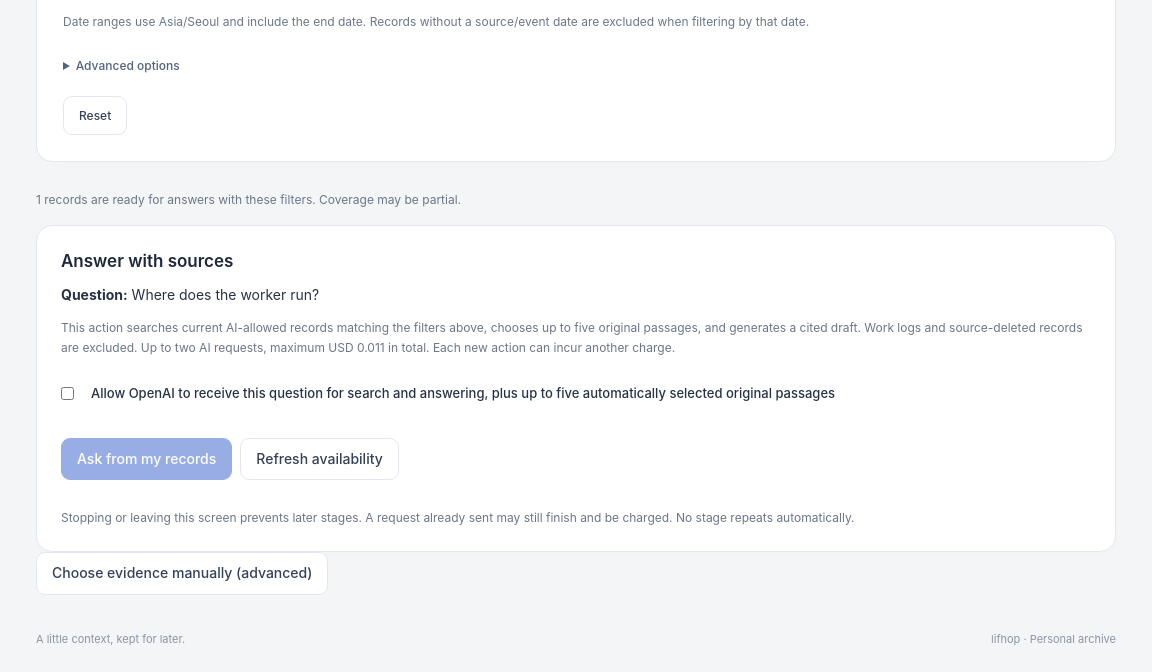
Test case: uses one consent/action for query, local recommendation and a bounded cited answer
(page scrolled)
Expected: the button "Ask from my records" is disabled, [61,438,232,480]
What coordinates should you click on to do the following:
click the checkbox named "Allow OpenAI to receive this question for search and answering, plus up to five automatically selected original passages"
I would click on:
 (68, 393)
Its box is [61,385,74,402].
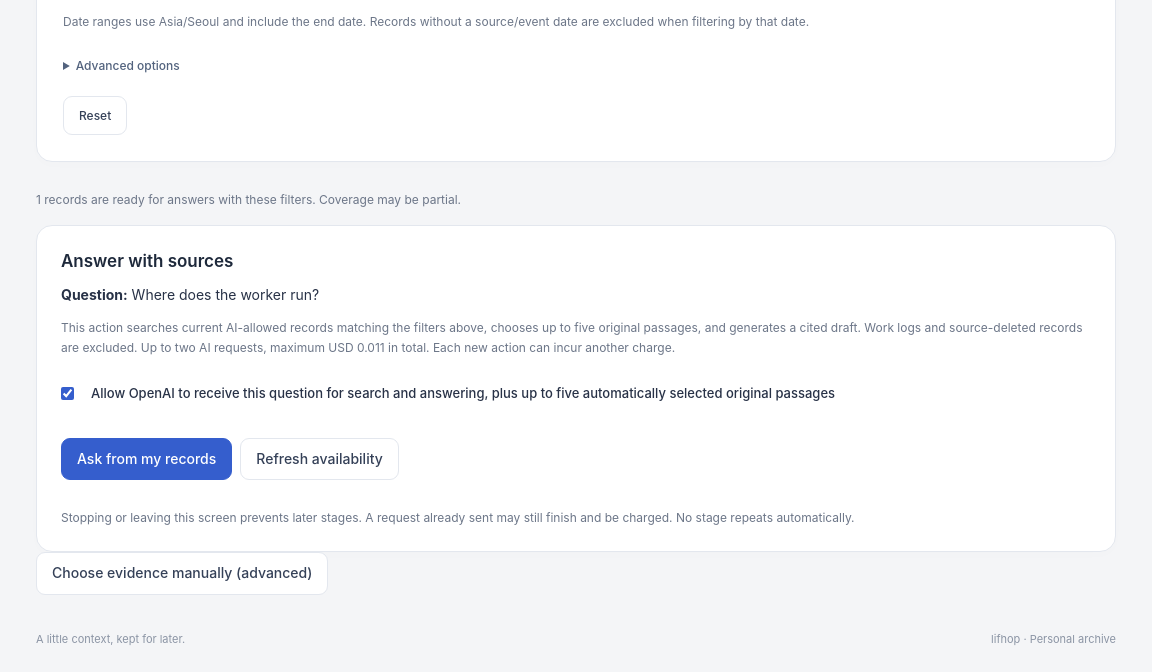
What coordinates should you click on to do the following:
click the button "Ask from my records"
I would click on:
 (147, 459)
Its box is [61,438,232,480].
(page scrolled)
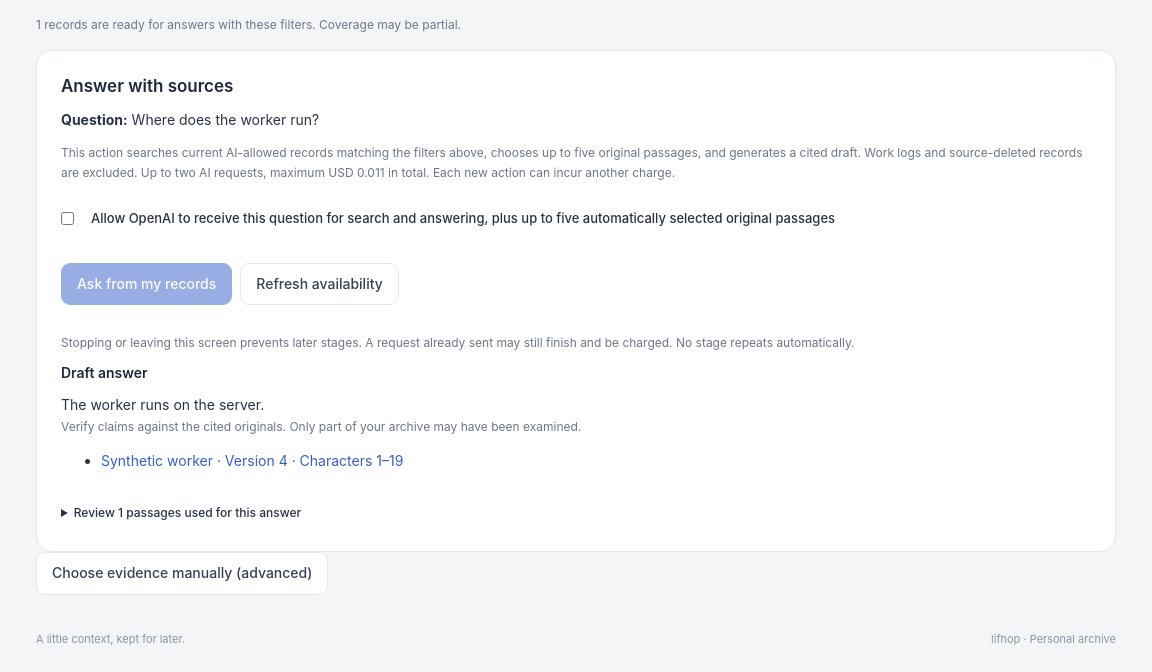
Expected: the checkbox named "Allow OpenAI to receive this question for search and answering, plus up to five automatically selected original passages" is not checked, [61,210,74,227]
Expected: the text "The worker runs on the server." is shown, [61,396,264,413]
What coordinates should you click on to do the following:
click the heading "Review 1 passages used for this answer"
I would click on:
 (187, 513)
Its box is [74,505,301,520].
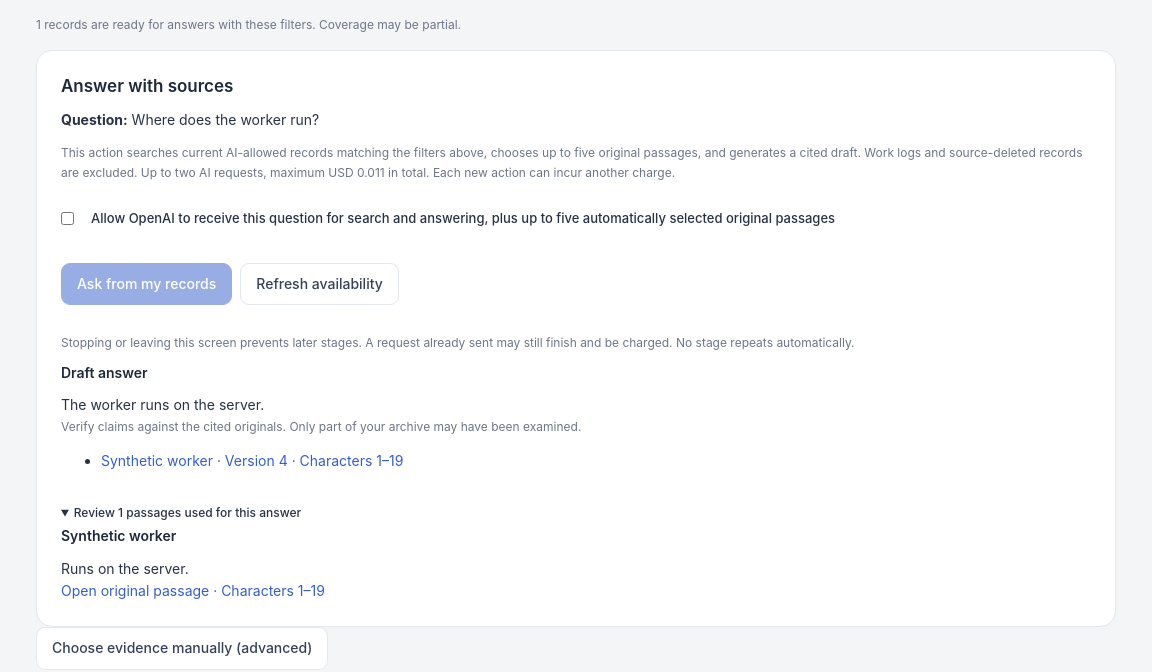
Expected: the text "Runs on the server." is shown, [61,560,189,577]
